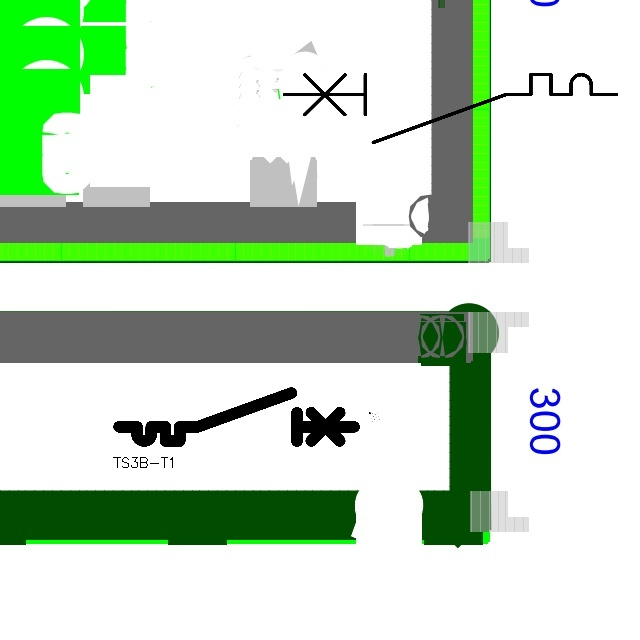interruptor_termomagnetico: (276, 66, 625, 151), (113, 387, 360, 447)
